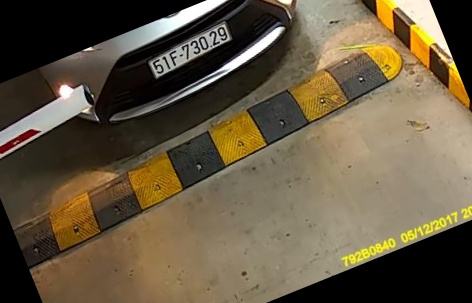plate: (144, 19, 237, 89)
